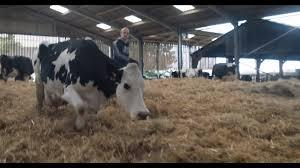cow: (34, 41, 151, 122), (1, 54, 37, 82), (212, 64, 240, 79)
